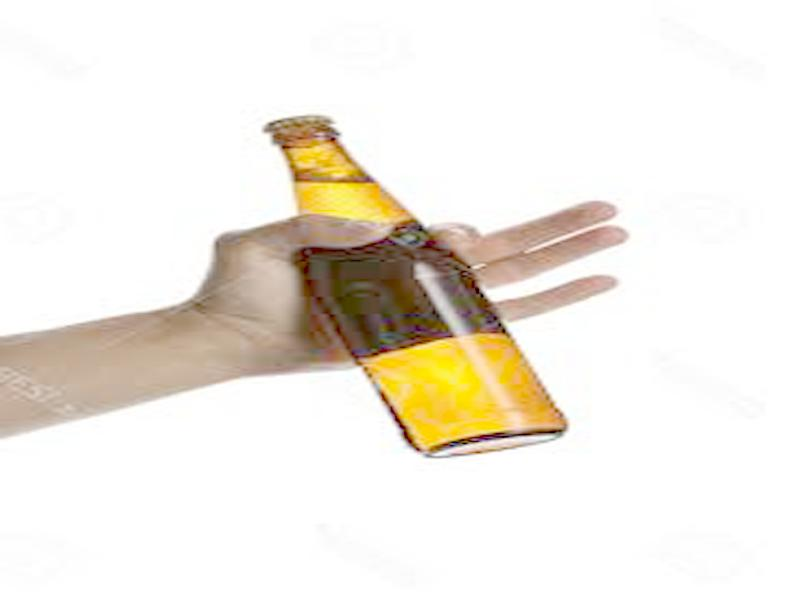Beer: (270, 122, 559, 456)
